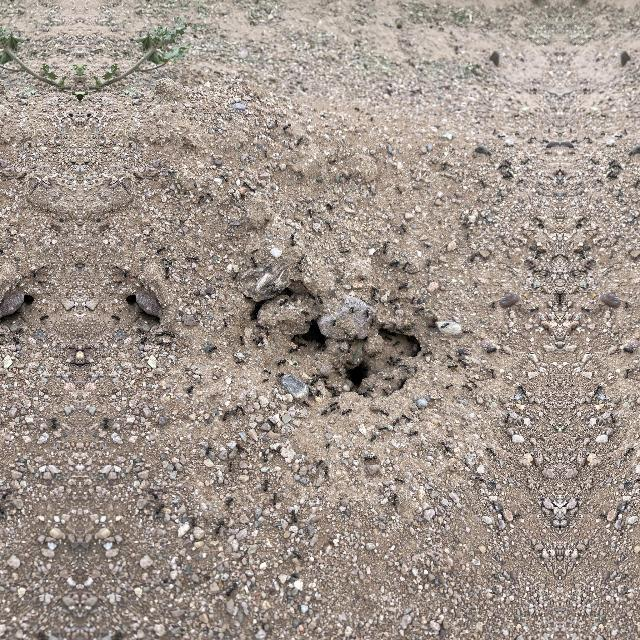Messor: (392, 472, 416, 493), (378, 238, 398, 262), (204, 343, 226, 361), (137, 334, 157, 351), (3, 334, 23, 351), (242, 180, 260, 198), (292, 251, 310, 269), (359, 448, 379, 464), (366, 282, 382, 302), (246, 252, 260, 274), (274, 360, 296, 374), (277, 296, 295, 312), (272, 491, 284, 513), (386, 492, 404, 506), (187, 250, 205, 264), (288, 505, 300, 525), (515, 384, 529, 401), (591, 384, 605, 401), (210, 522, 224, 536), (227, 584, 241, 598), (326, 314, 340, 328), (294, 547, 306, 563), (158, 267, 174, 279), (157, 330, 176, 340), (361, 429, 379, 439), (225, 497, 243, 507), (321, 221, 339, 231), (284, 342, 300, 353), (377, 408, 389, 422), (498, 414, 510, 428), (440, 382, 454, 394), (610, 414, 622, 428), (344, 406, 354, 422), (135, 327, 151, 337), (9, 327, 25, 337), (156, 505, 167, 519), (390, 416, 402, 428), (259, 475, 271, 487), (622, 367, 634, 379), (318, 464, 332, 474), (157, 340, 171, 350), (230, 334, 247, 342), (487, 367, 498, 379), (163, 258, 179, 266), (326, 398, 340, 407), (50, 414, 59, 428), (378, 422, 388, 434), (220, 412, 230, 424), (80, 360, 92, 370), (286, 234, 298, 244), (462, 382, 474, 392), (446, 359, 456, 371), (68, 360, 80, 370), (36, 274, 46, 286), (102, 414, 110, 428), (112, 309, 126, 317), (34, 309, 48, 317), (400, 411, 410, 422), (326, 404, 344, 410), (115, 274, 124, 286), (1, 488, 10, 500), (184, 511, 193, 522), (150, 488, 158, 500), (238, 404, 244, 416), (185, 384, 195, 390), (234, 404, 240, 414), (206, 192, 216, 198), (158, 244, 165, 252), (0, 505, 4, 519), (319, 406, 325, 414), (314, 458, 322, 464), (305, 310, 311, 318), (84, 346, 95, 350), (66, 346, 76, 350), (373, 408, 379, 414), (0, 340, 3, 350), (348, 304, 352, 310), (0, 244, 2, 252)
